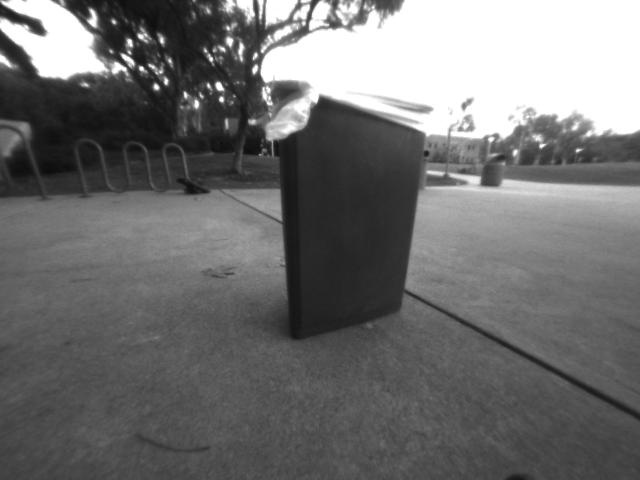trashcan_open: (261, 73, 442, 350)
